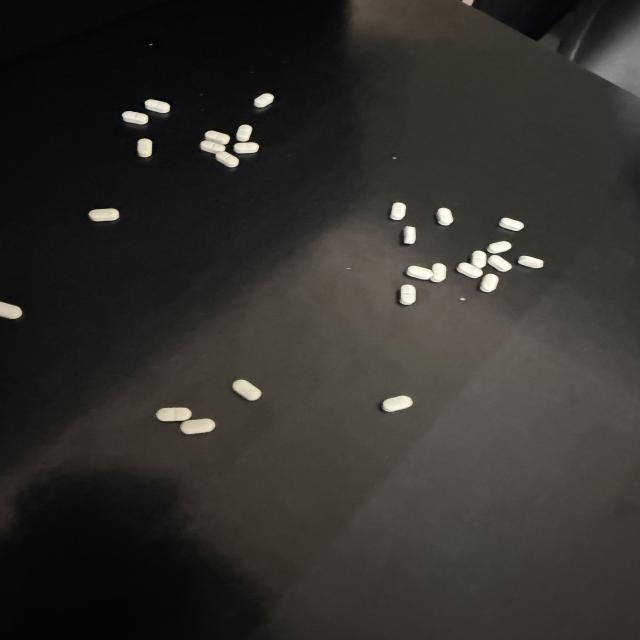pill: (232, 380, 261, 400), (180, 419, 215, 434), (382, 396, 412, 412), (156, 408, 191, 421), (488, 255, 512, 272), (457, 263, 482, 278), (0, 302, 22, 319), (89, 209, 119, 221), (399, 284, 416, 305), (406, 266, 433, 279), (205, 131, 230, 145), (216, 152, 239, 167), (430, 263, 447, 283), (122, 111, 148, 124), (200, 140, 225, 153), (499, 218, 524, 231), (145, 100, 170, 113), (480, 274, 498, 292), (518, 256, 543, 268), (487, 241, 511, 253), (254, 93, 274, 107), (234, 142, 259, 153), (390, 203, 406, 220), (437, 208, 453, 225), (137, 139, 152, 157), (236, 125, 252, 141), (471, 251, 486, 268), (403, 226, 416, 244)
